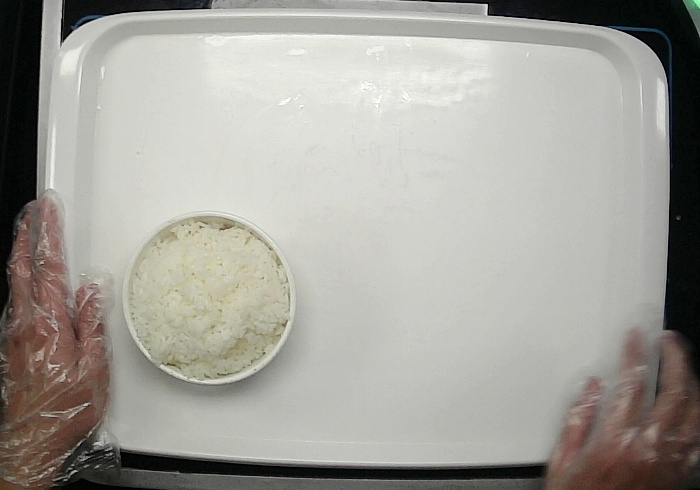HZYJPL-Fan_Wan: (119, 210, 297, 386)
